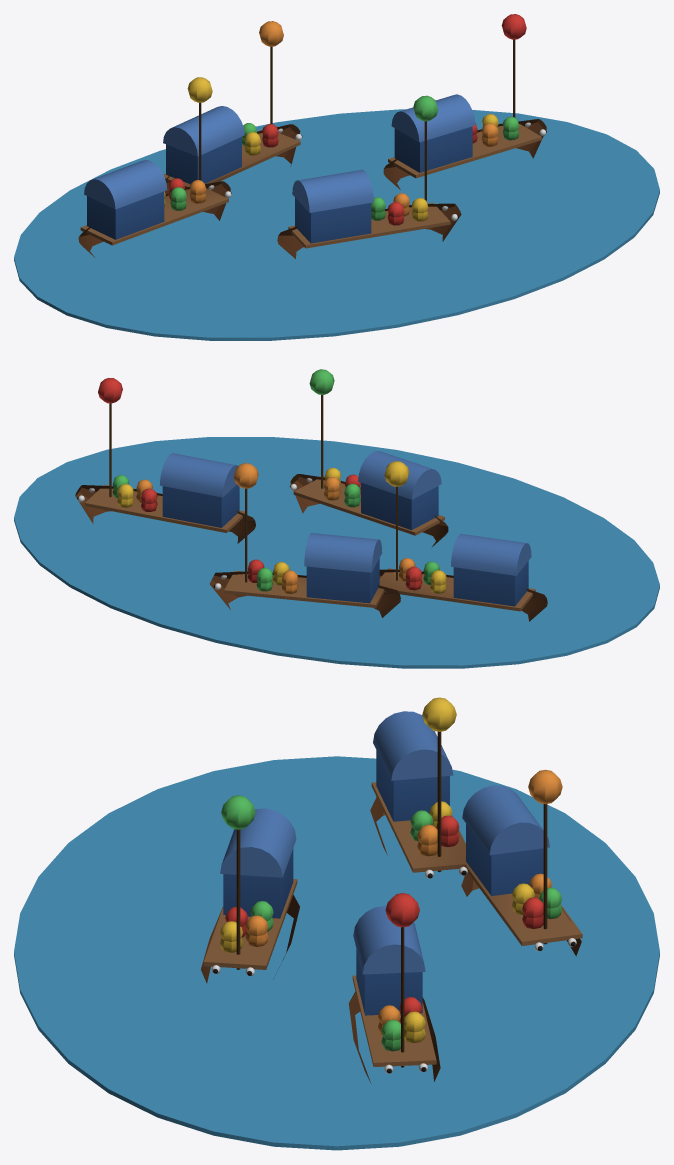
File: lm-cairang.glb
3 renders of one model, top to bottom at view 1: azimuth 30°, elevation 25°; view 2: azimuth 150°, elevation 25°; view 3: azimuth 270°, elevation 25°, orthographic. The views are drawn at different scales.
Bounding box in the file's own units: 16 × 4.05 × 11.2.
